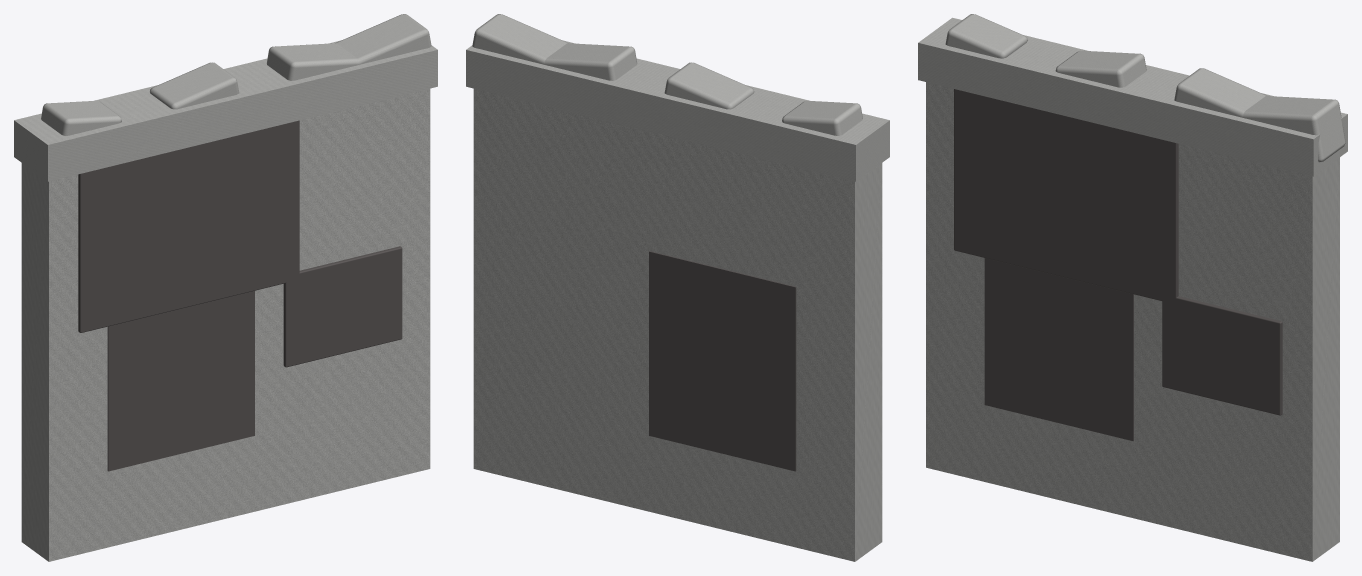
The model's file is fire-and-emergency-services-scorched-wall-section-82feeec2__29940.glb.
3 views of the same model, side by side, from view 1: azimuth 30°, elevation 25°; view 2: azimuth 150°, elevation 25°; view 3: azimuth 330°, elevation 25° (orthographic).
Parts seen in each view (by area): view 1: scorched-wall-section; view 2: scorched-wall-section; view 3: scorched-wall-section.
Boxes of the visible parts, x1,y1,x2,y2 form: scorched-wall-section: [14, 14, 437, 561]; scorched-wall-section: [466, 14, 889, 561]; scorched-wall-section: [918, 14, 1347, 561].
Bounding box in the file's own units: 2.69 × 2.85 × 0.4.
Materials: 2 (1 with a texture image).
